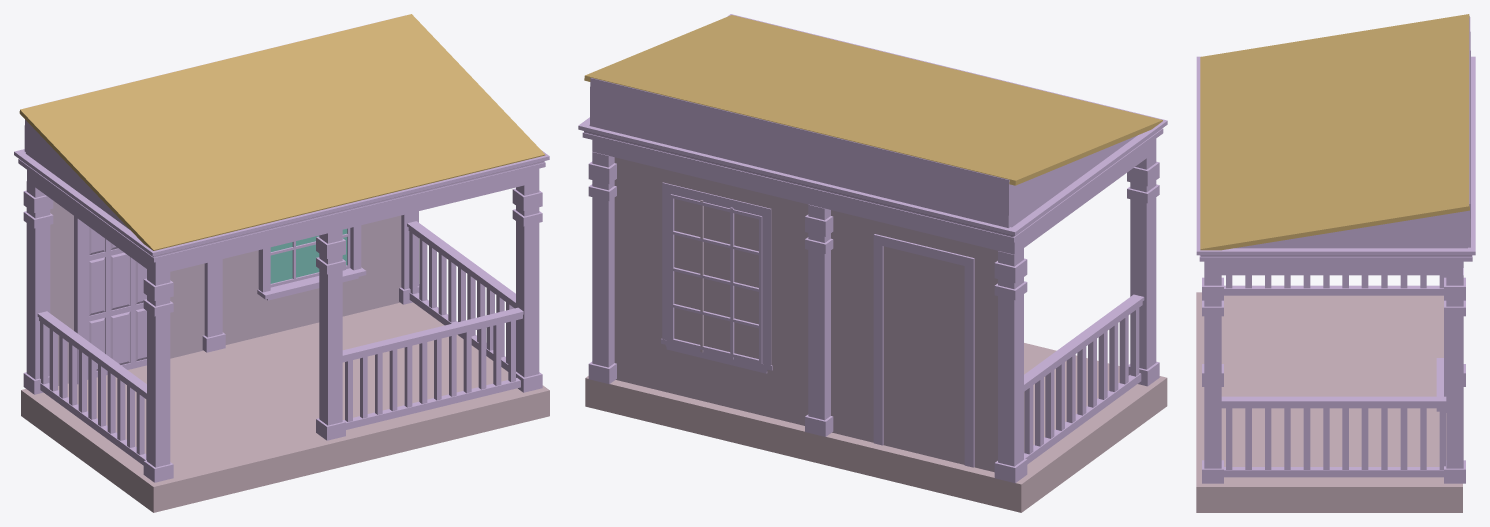
Rendered from House_2_3.FBX.
3 views of the same model, side by side, from view 1: azimuth 30°, elevation 25°; view 2: azimuth 150°, elevation 25°; view 3: azimuth 270°, elevation 25° (orthographic). The views are drawn at different scales.
Parts seen in each view (by area): view 1: H2-mod_3_LOD0; view 2: H2-mod_3_LOD0; view 3: H2-mod_3_LOD0.
Part boxes in pixels (x1,y1,x2,y2): H2-mod_3_LOD0: (14,14,549,512); H2-mod_3_LOD0: (578,14,1167,512); H2-mod_3_LOD0: (1196,14,1475,512).
Size of what is drawn, in the model's own units: 481 by 352 by 292.
